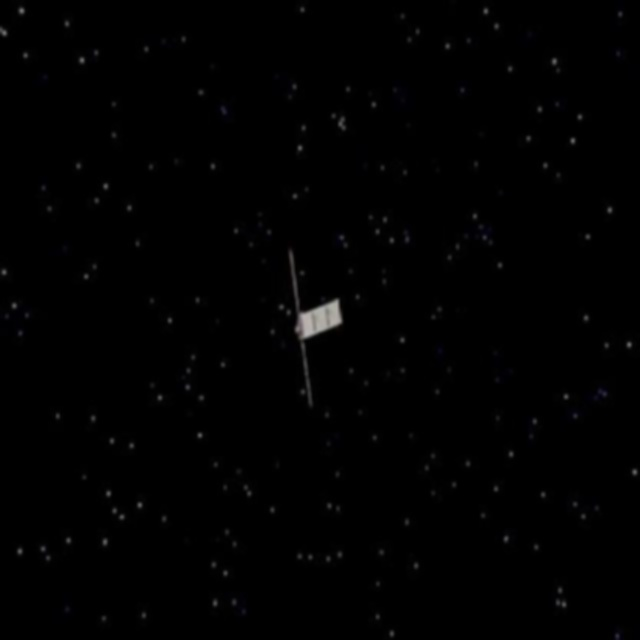medium_debris: (273, 234, 355, 419)
